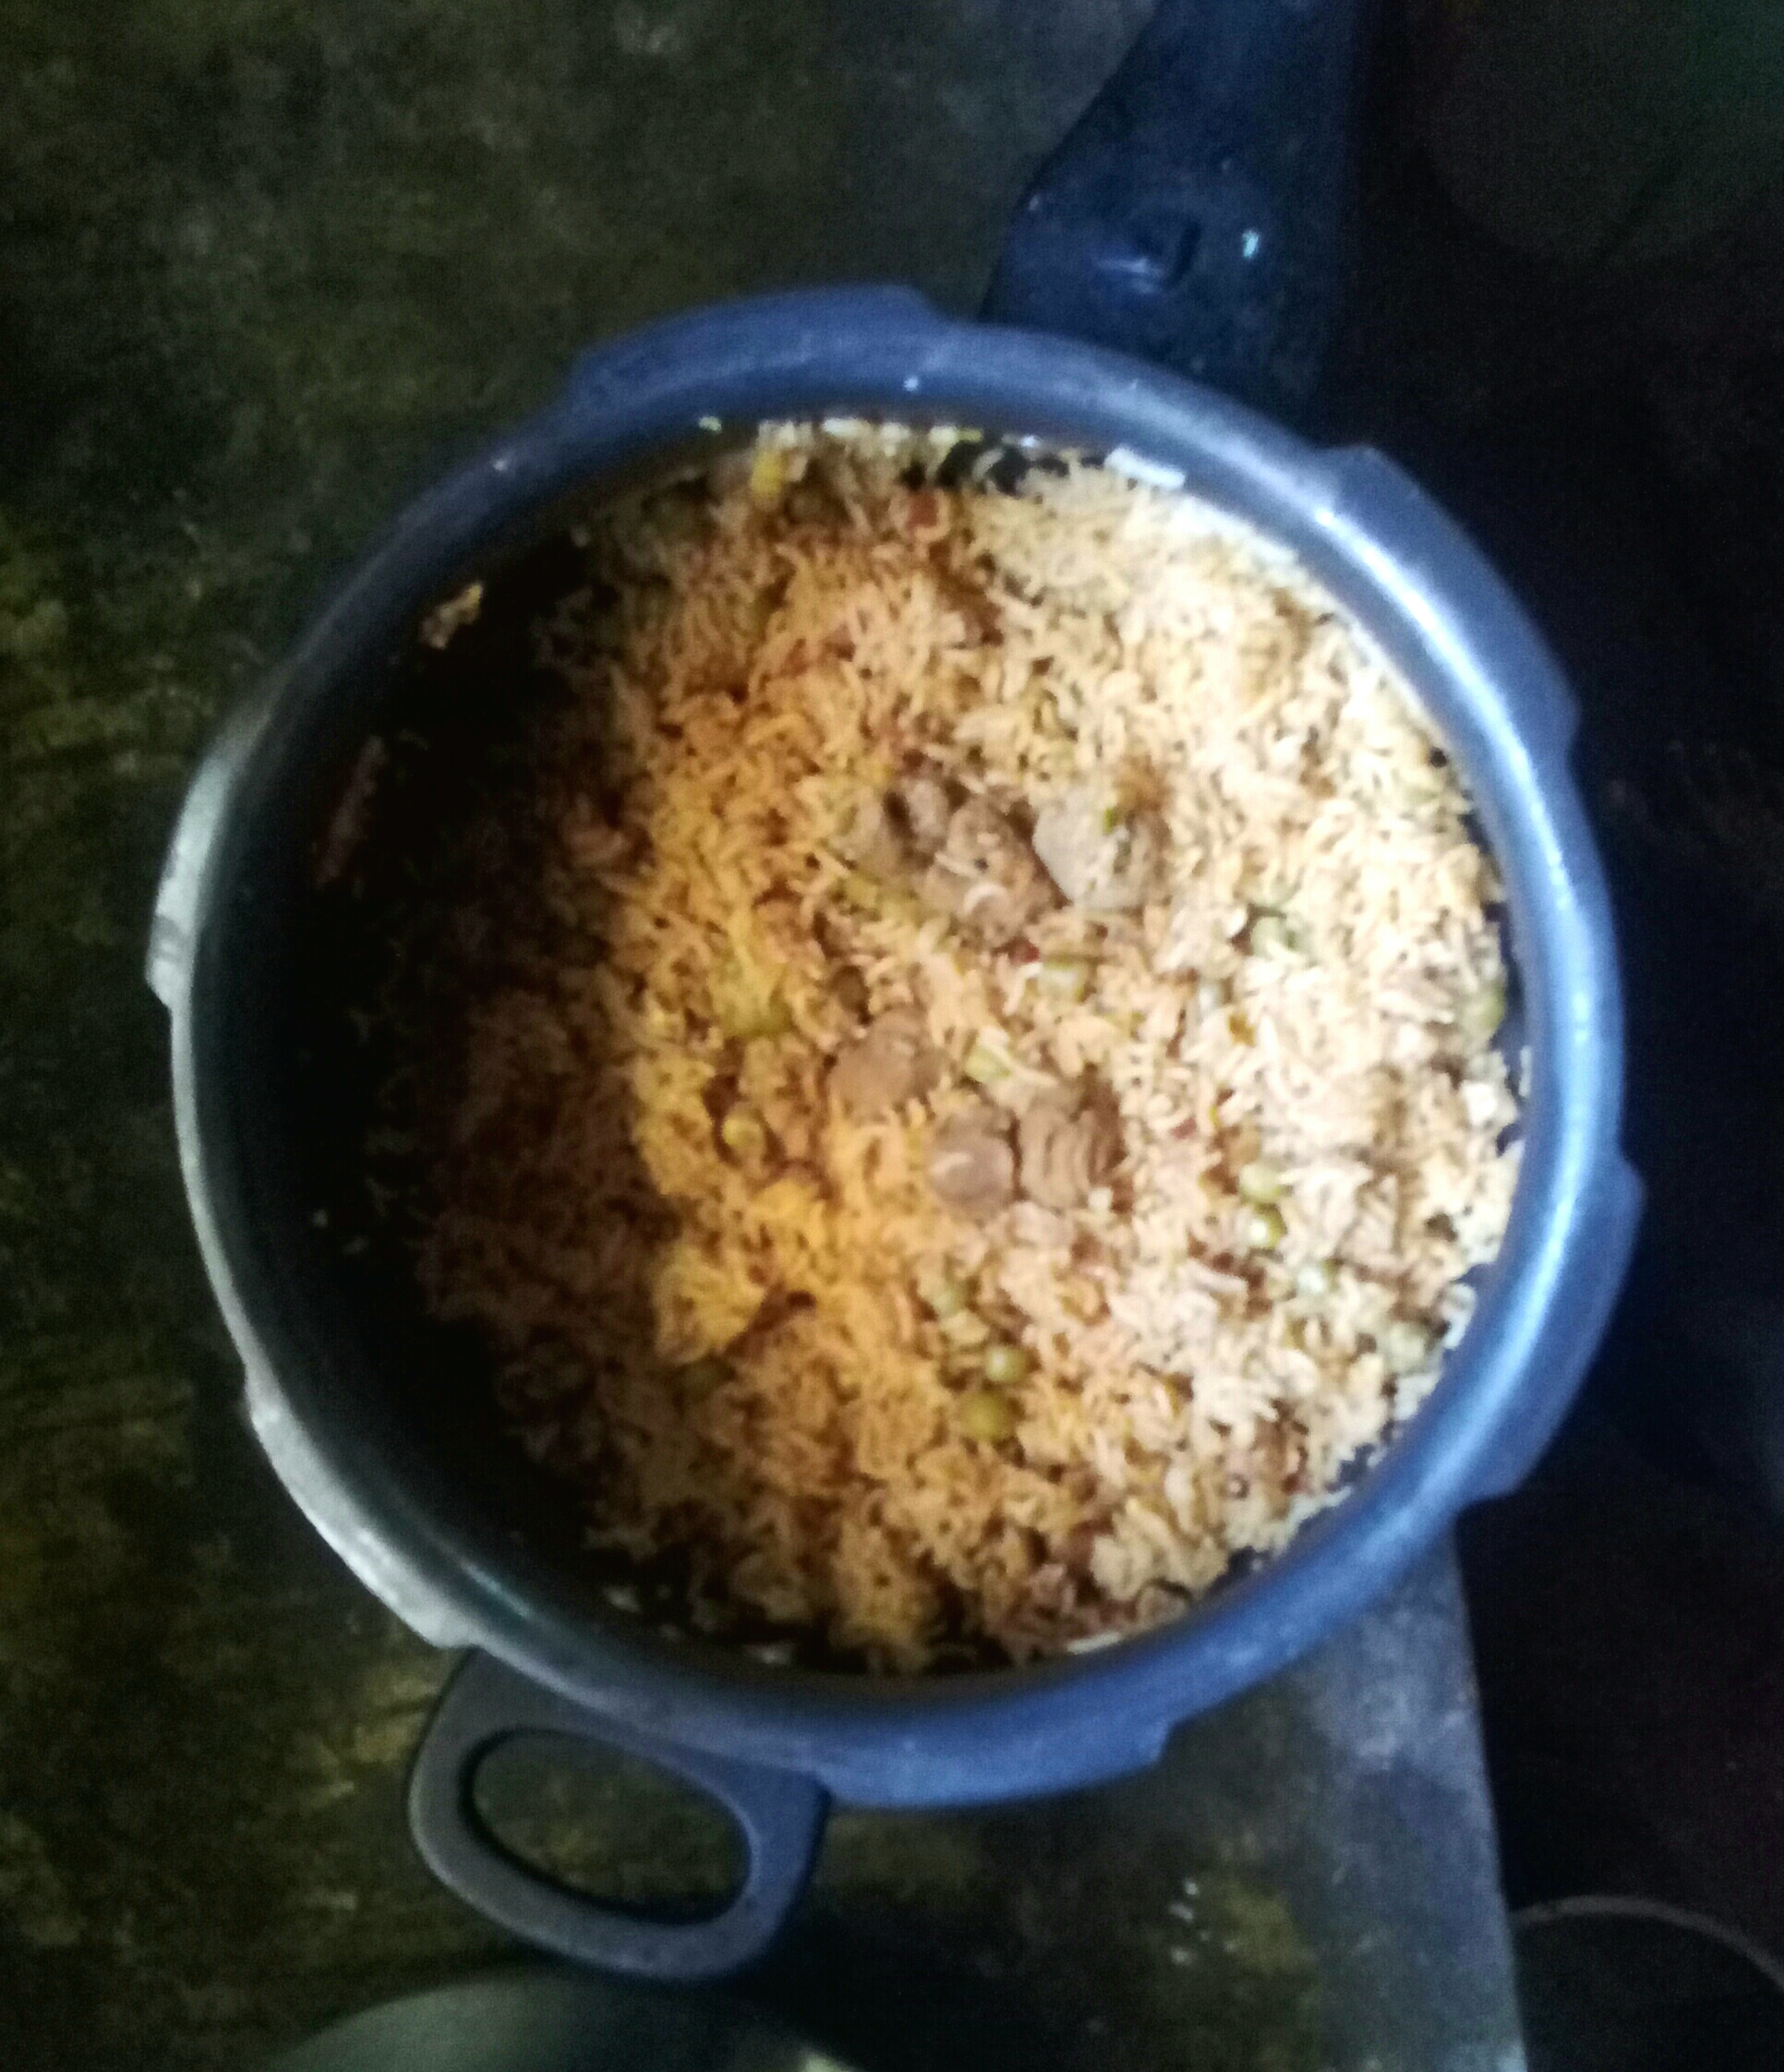food: (293, 402, 1539, 1679)
